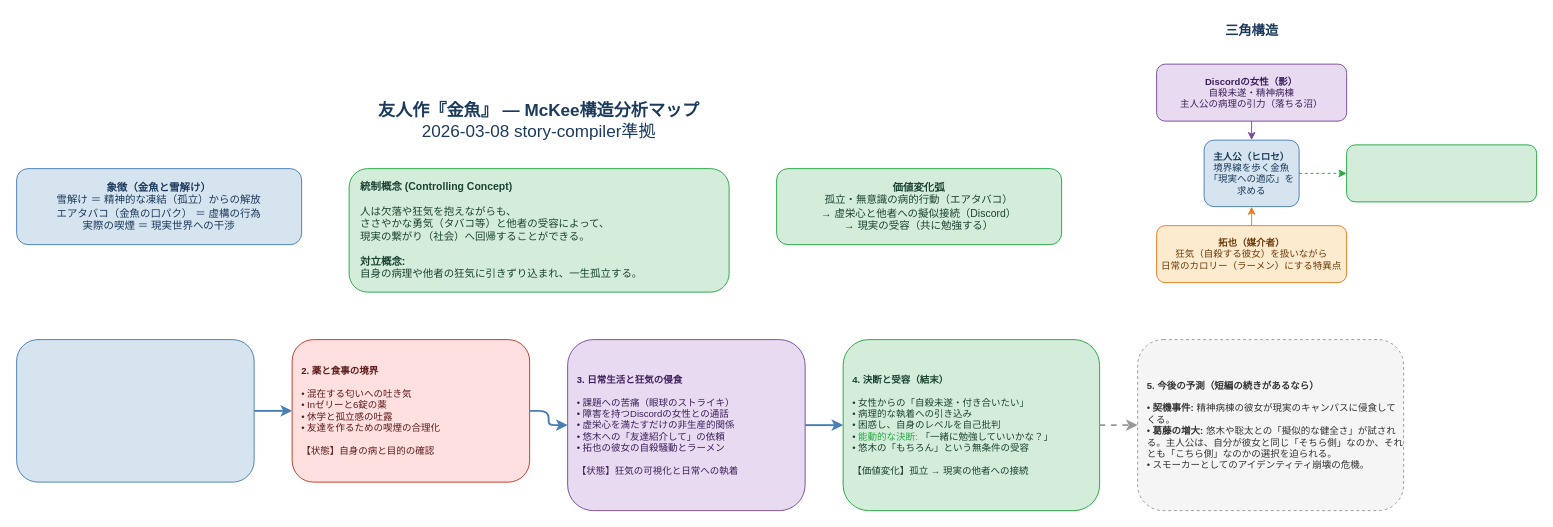
This 1553x527 diagram has some shape labels left out. Here are the shapes that lost their labels. From the top down, the centre of each, then its label:
At (1441,173): "悠木・聡太（健全な日常） タバコ、授業、テスト勉強".
At (135,410): "1. 雪解けと喫煙所 • 雪解けの音（変化の始まり） • 喫煙所デビュー • エアタバコからの脱却 • 「金魚」の指摘 【状態】虚構から物理的行動へ".
